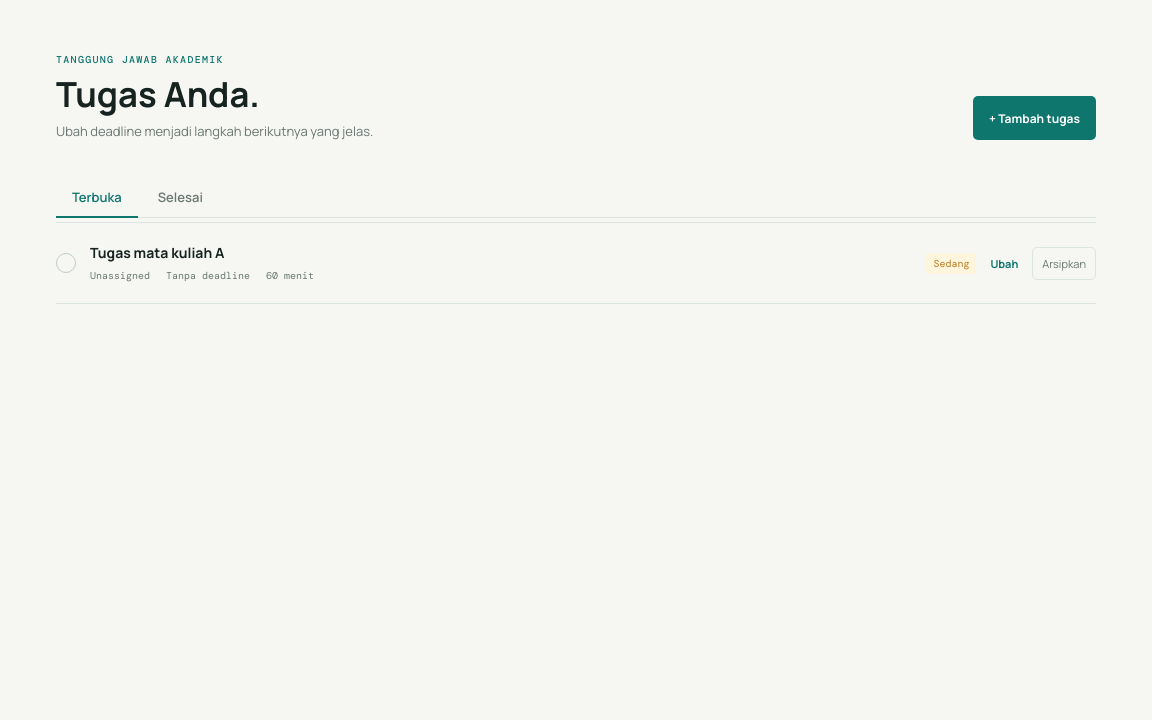
TasksPage — complete, Selesai tab, restore › restores a task back to Terbuka via the Pulihkan button
Click the button named "Selesaikan Tugas mata kuliah A".
click(66, 263)  # box [56,253,76,273]
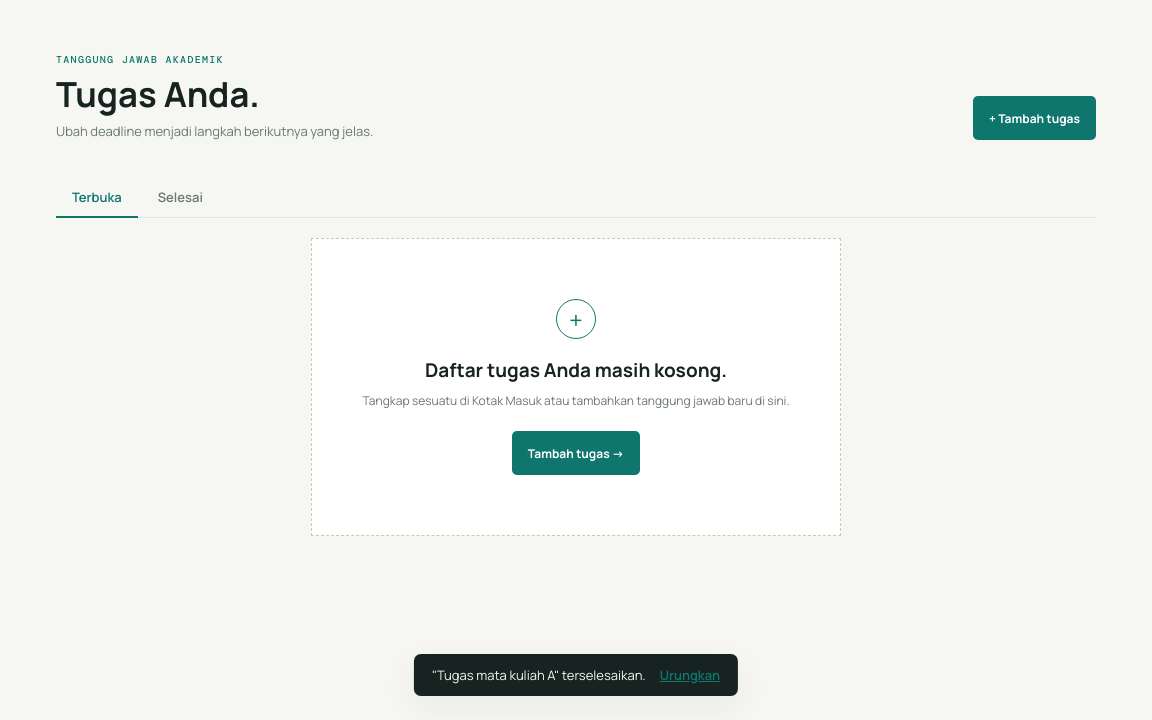
Click the tab "Selesai".
click(180, 198)  # box [142,178,219,218]
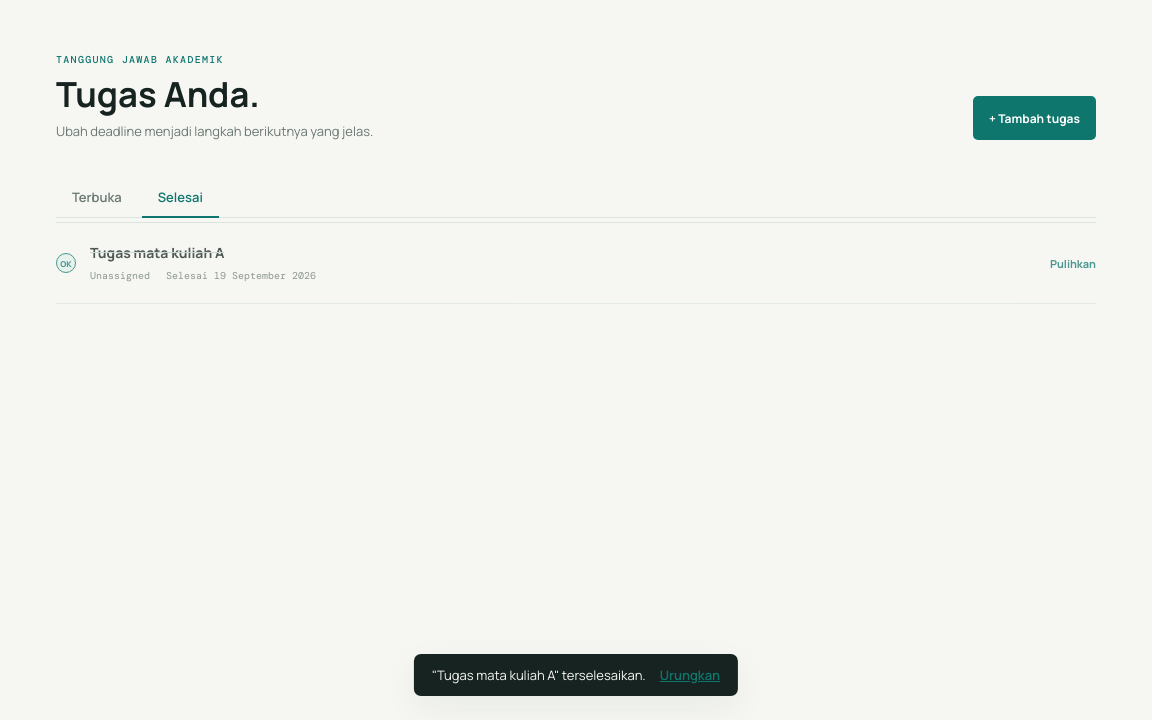
Click the button "Pulihkan".
click(1073, 263)  # box [1050,241,1096,285]
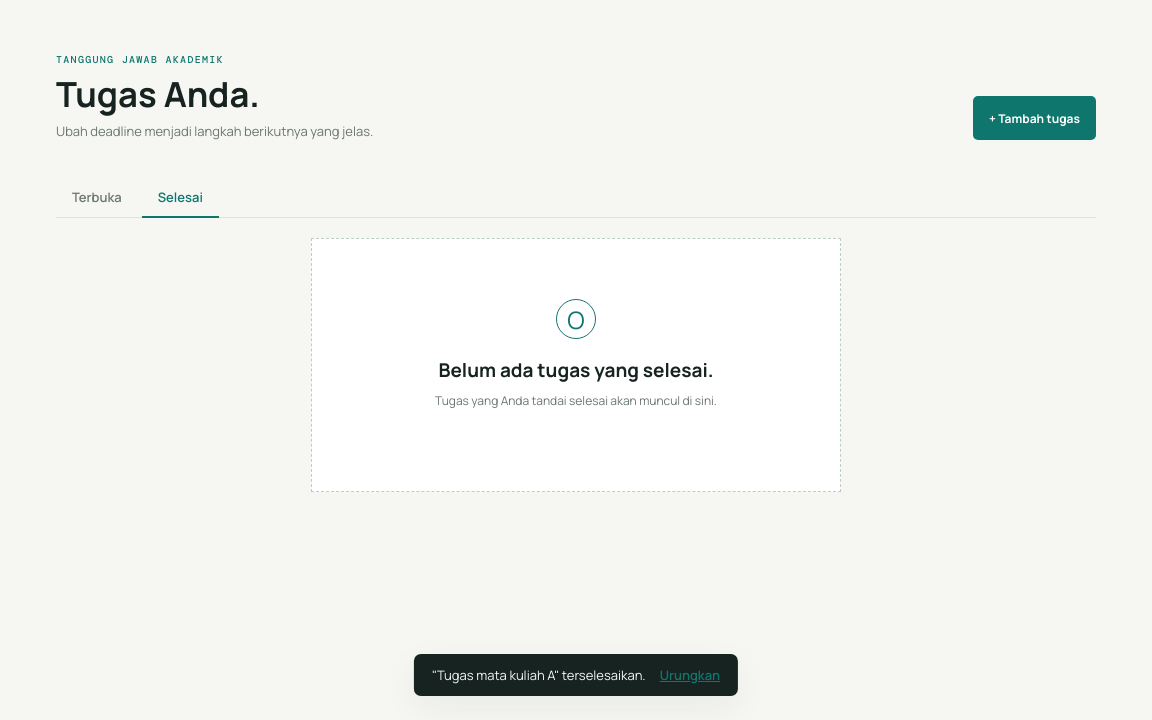
Click the tab "Terbuka".
click(97, 198)  # box [56,178,138,218]
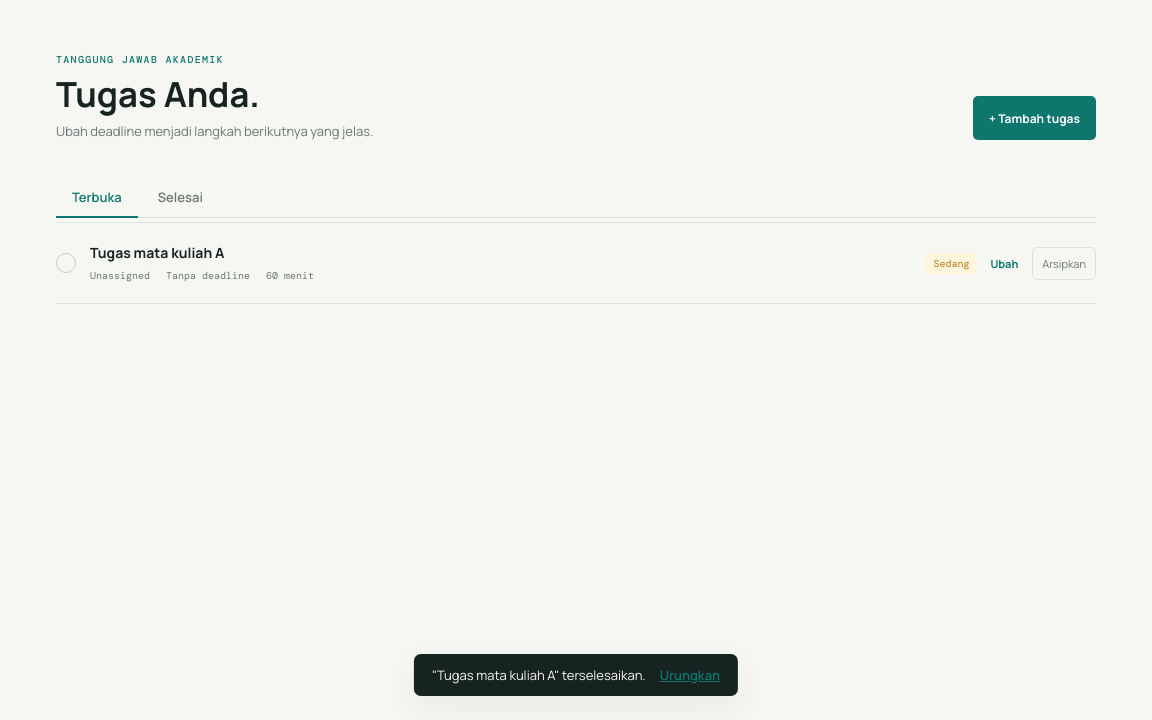
Check: the heading "Tugas mata kuliah A" is shown, box [90,243,224,262]
